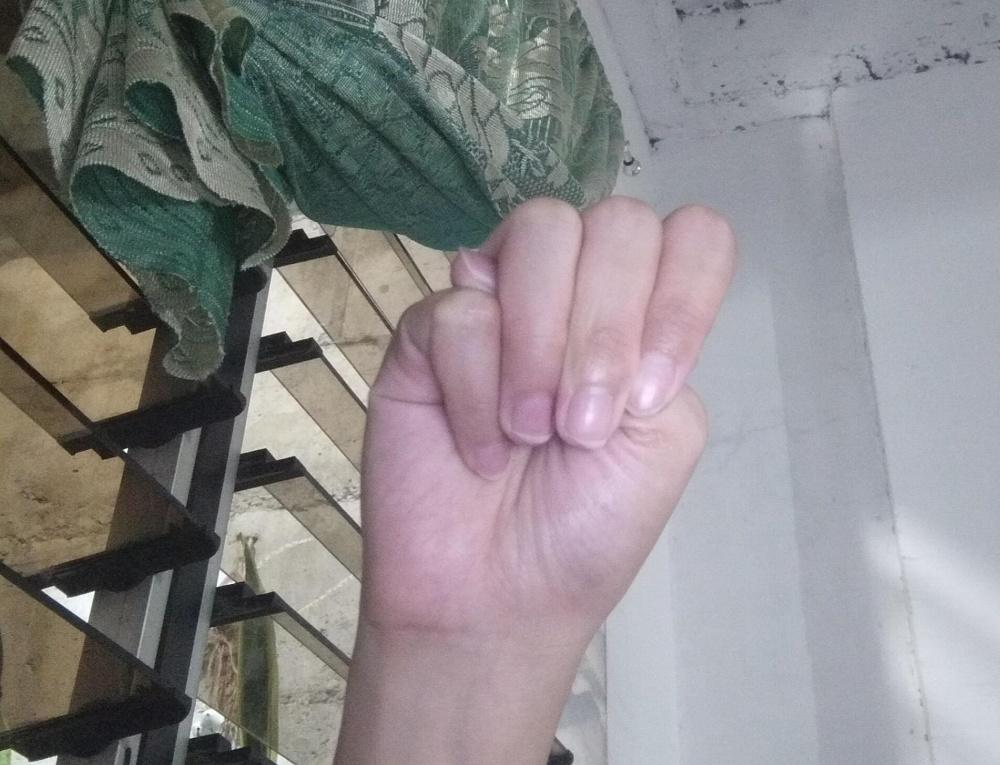m: (360, 194, 739, 650)
